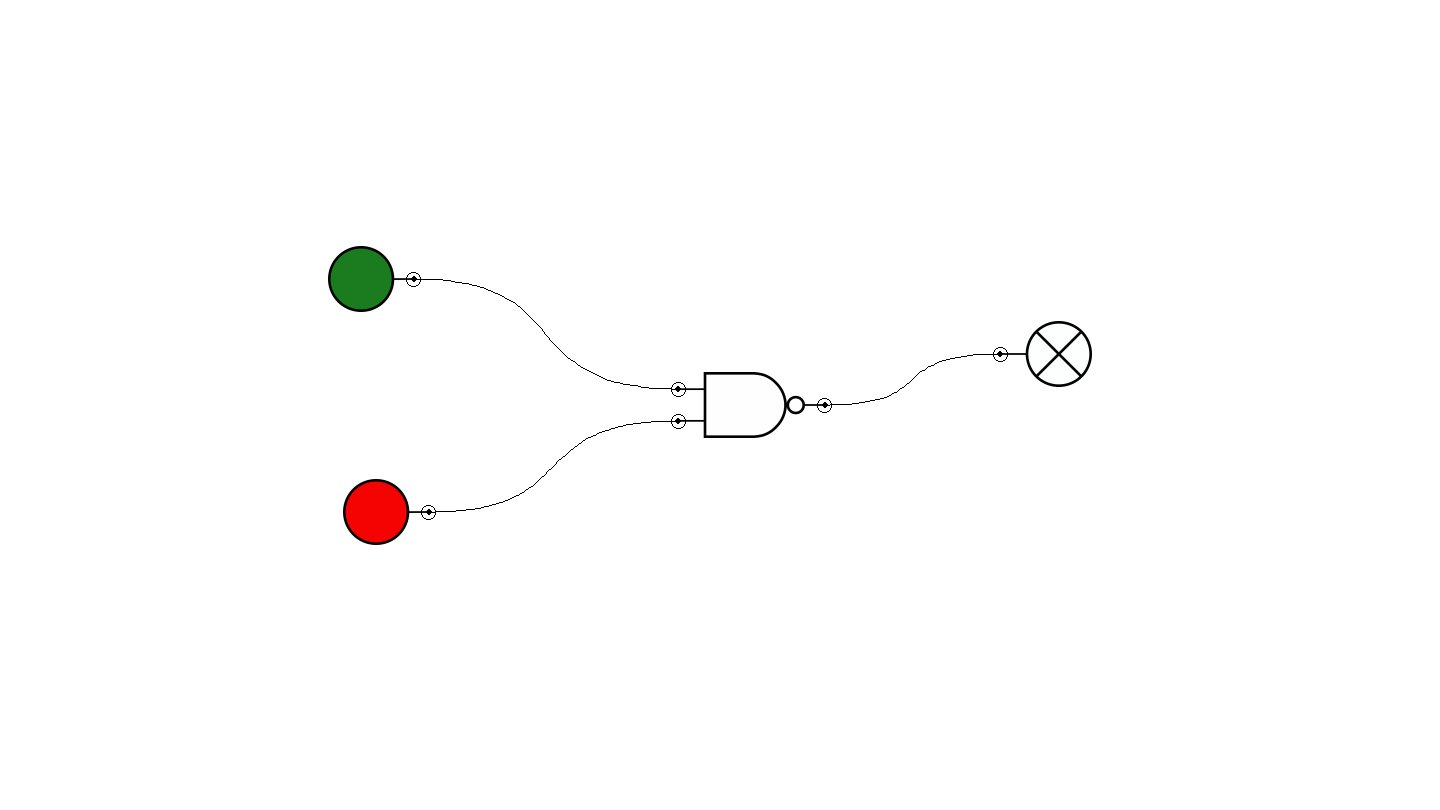bulb: (993, 321, 1092, 387)
nand: (671, 372, 832, 438)
switch_False: (343, 479, 436, 545)
switch_True: (328, 246, 421, 312)
